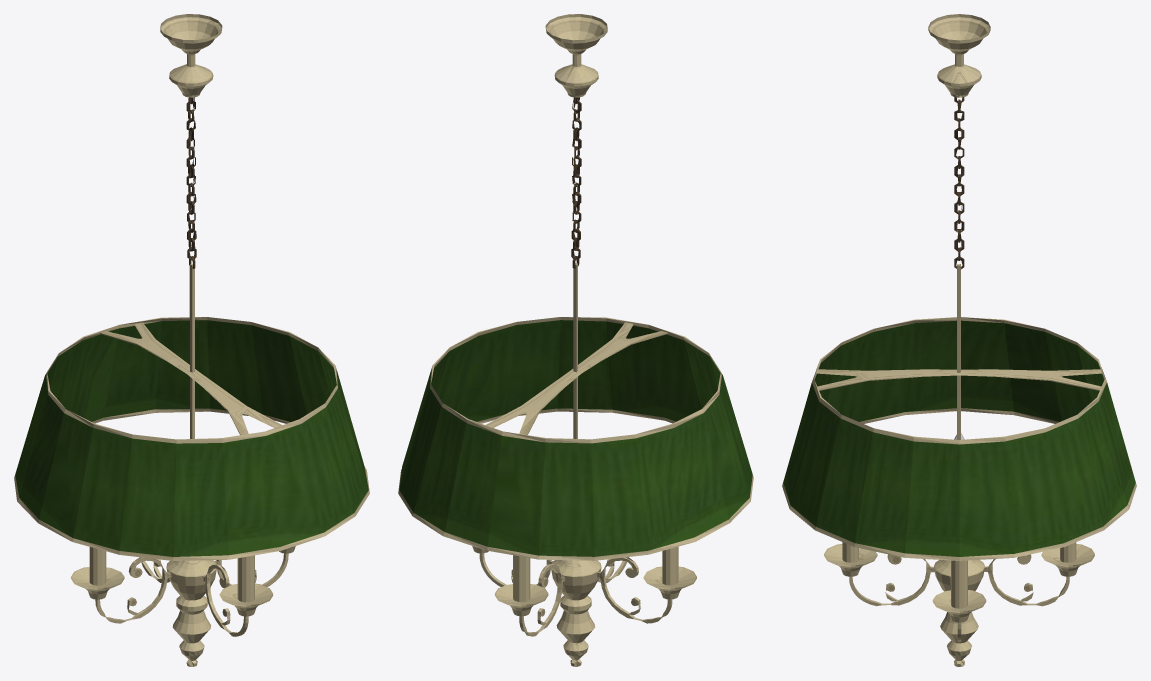
Rendered from f_chandelier.glb.
3 renders of one model, left to right at view 1: azimuth 30°, elevation 25°; view 2: azimuth 150°, elevation 25°; view 3: azimuth 270°, elevation 25°, orthographic.
Bounding box in the file's own units: 19.6 × 38.9 × 19.6.
Materials: 1 (1 with a texture image).
